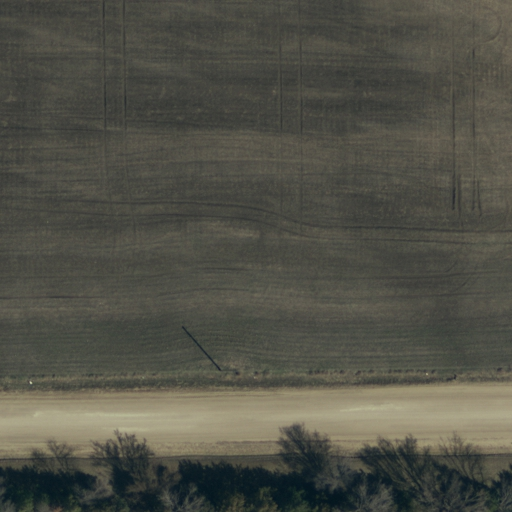DT: (212, 361, 228, 381)
